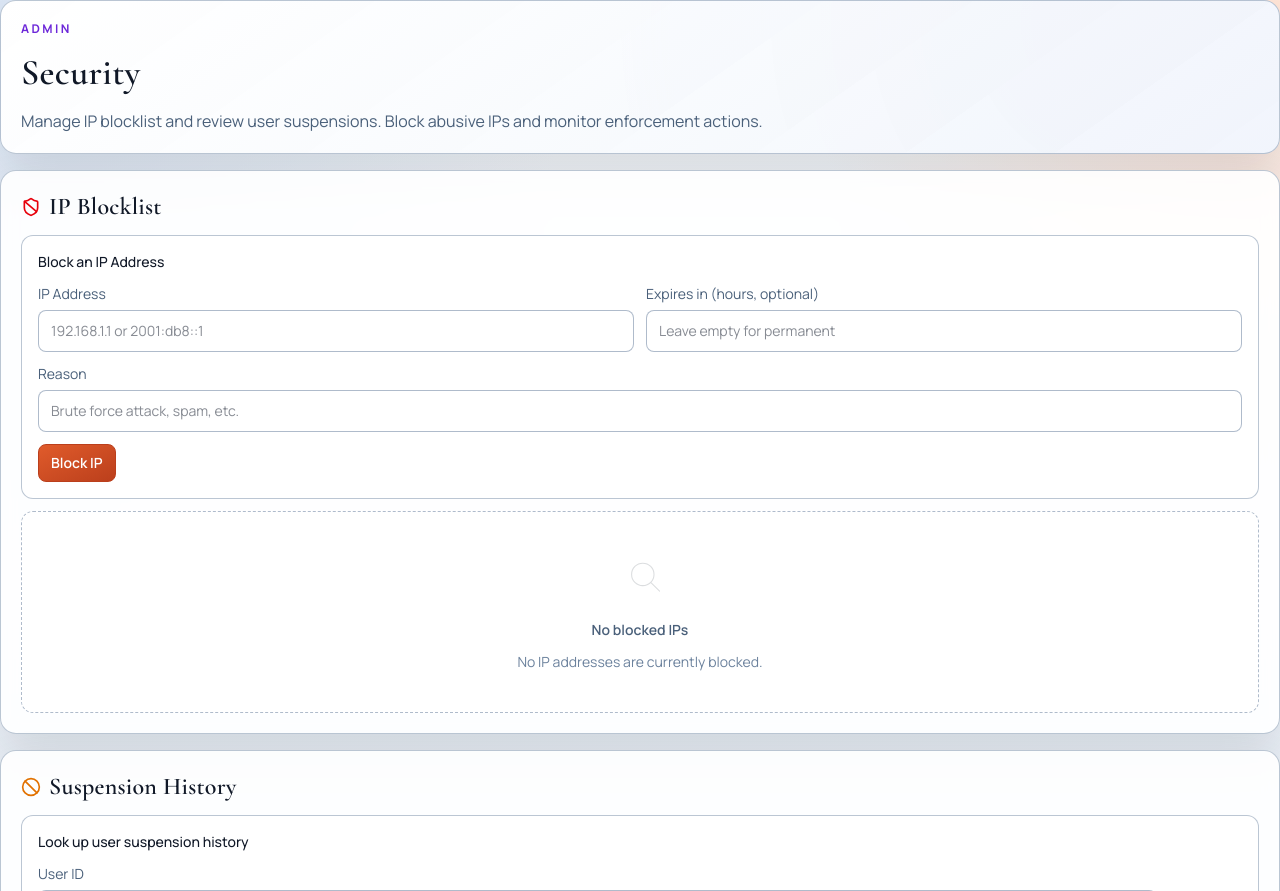
Test case: AdminSecurityPage › shows error toast when IP is empty on add block
Expected: the text "No blocked IPs" is shown, [592,620,688,640]
What coordinates should you click on to do the following:
click the button "Block IP"
I would click on:
 (77, 463)
Its box is [38,444,116,482].
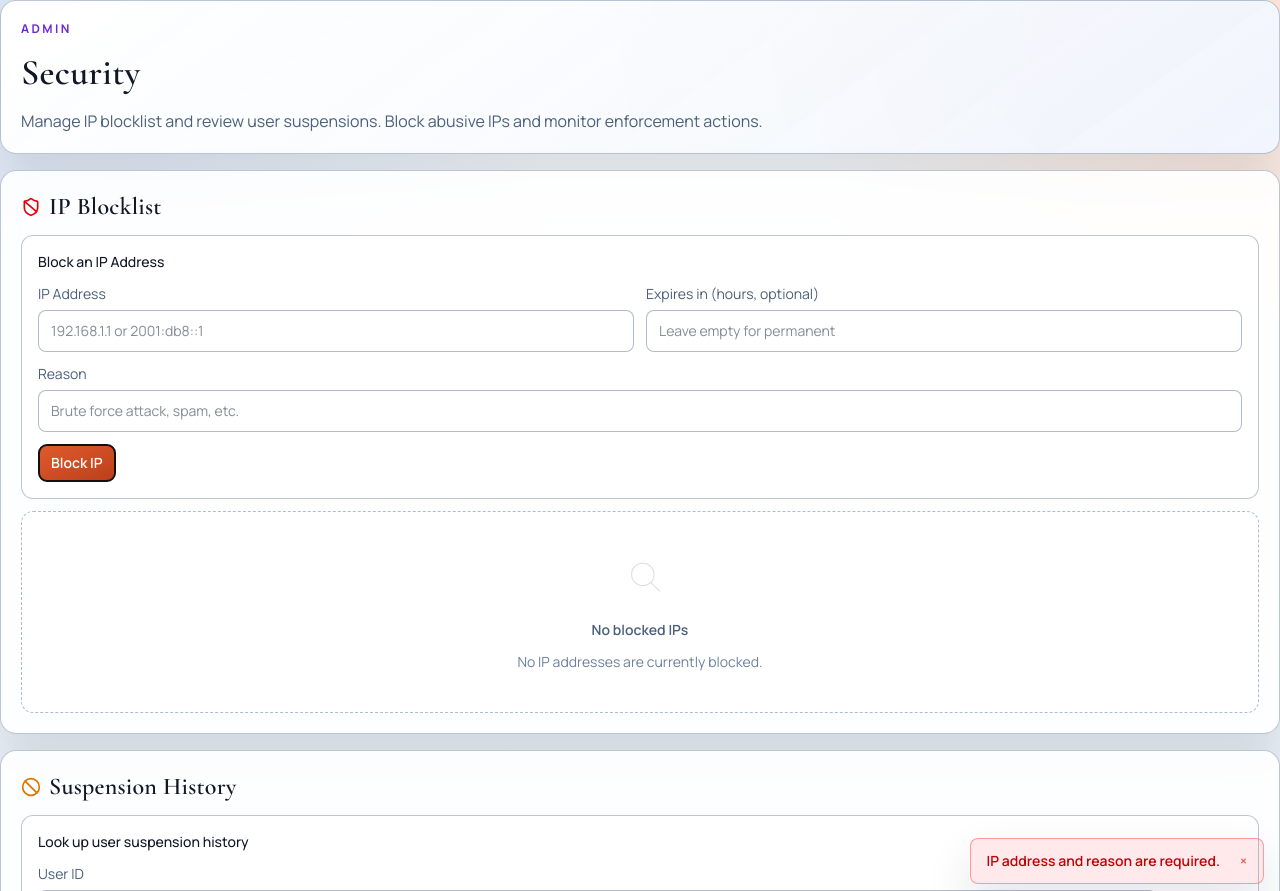
Result: the text "IP address and reason are required." is shown at [986,851,1220,871]
